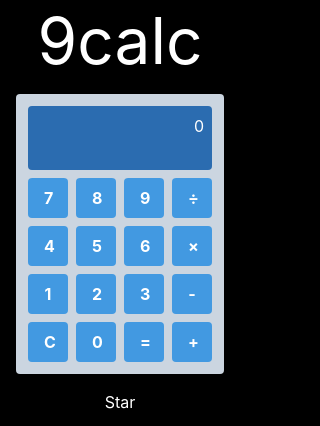
Test case: 9calc › clicks clear to reset calculator
The width and height of the screenshot is (320, 426).
Click the button "1": (48, 294) [28,274,68,314]
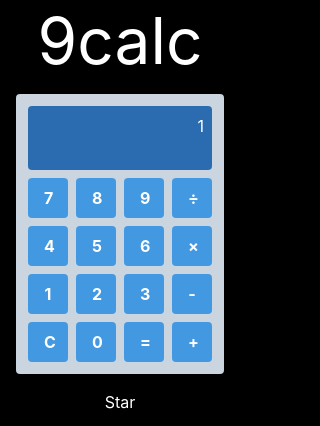
Expected: the text "1" is shown, [198,116,204,136]
Click the button "C": (48, 342) [28,322,68,362]
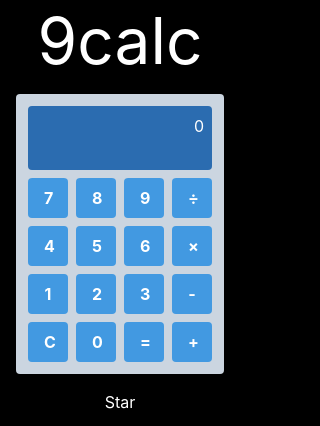
Expected: the text "0" is shown, [194,116,204,136]
